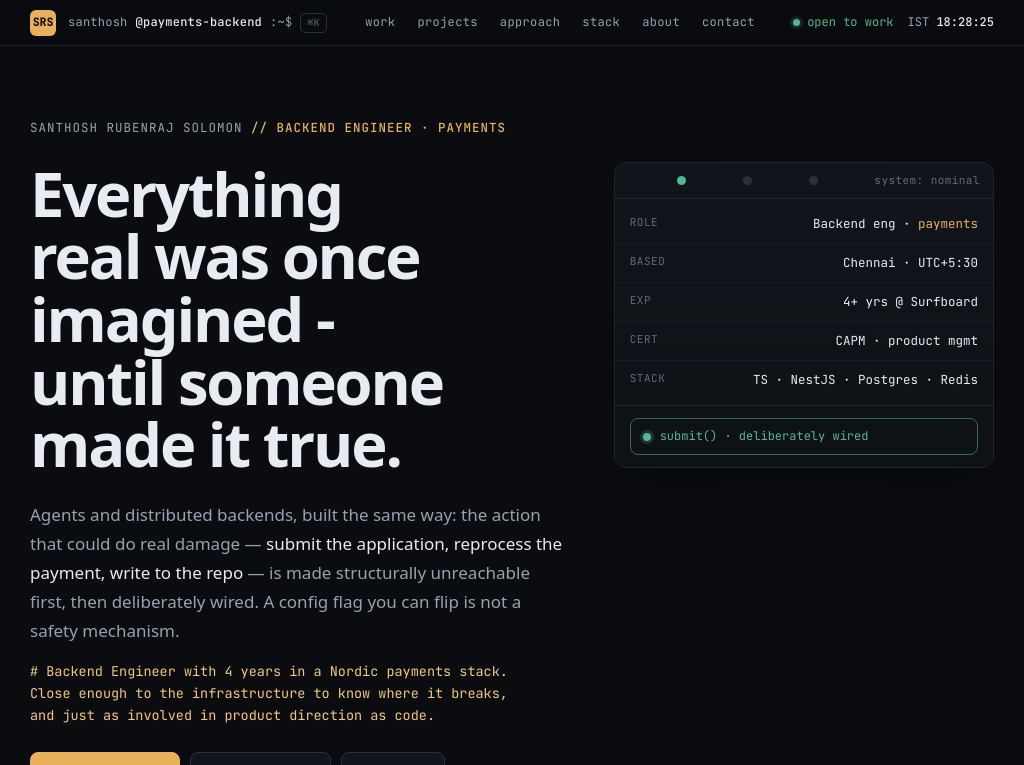
it: commands › Enter after ArrowDown runs the selected suggestion
Click the button titled "Command palette (⌘K)": (197, 22) 68,12 -> 327,32
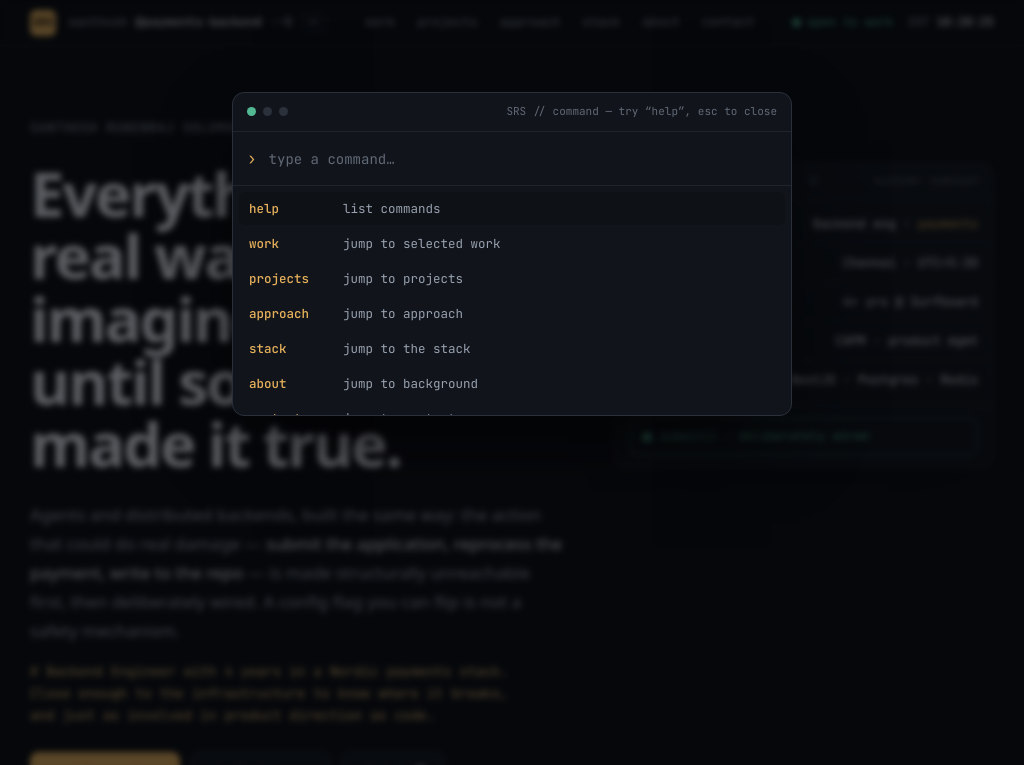
In the field labelled "command": (522, 158) 267,148 -> 777,168, type "w"
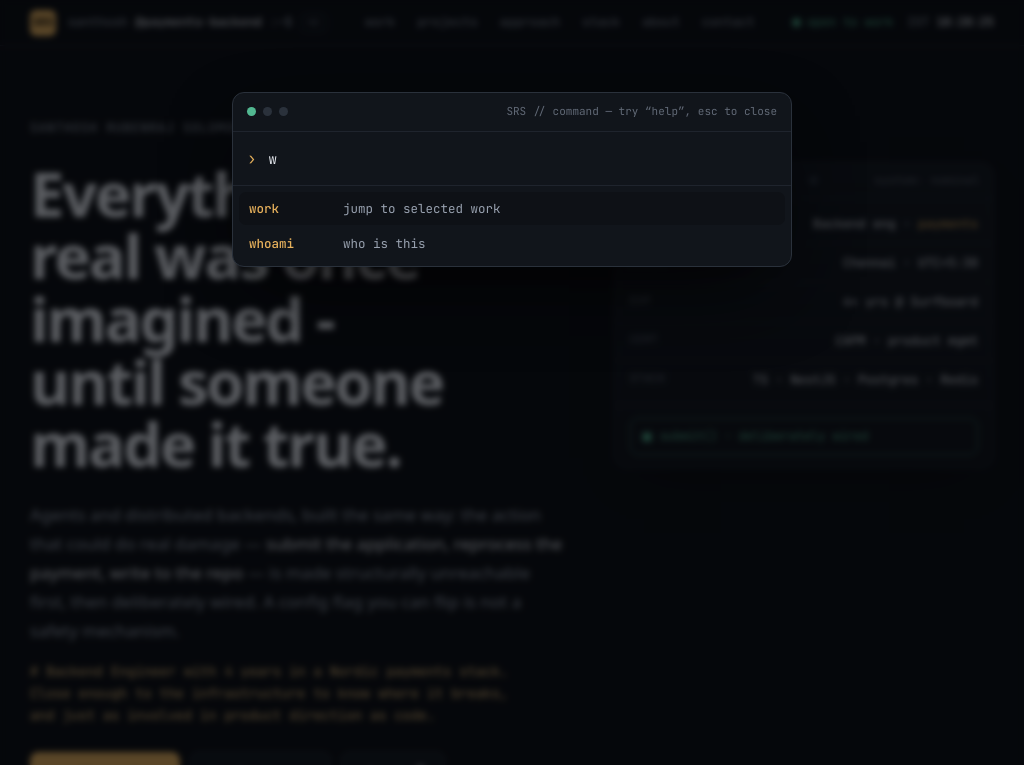
Press Arrowdown Enter
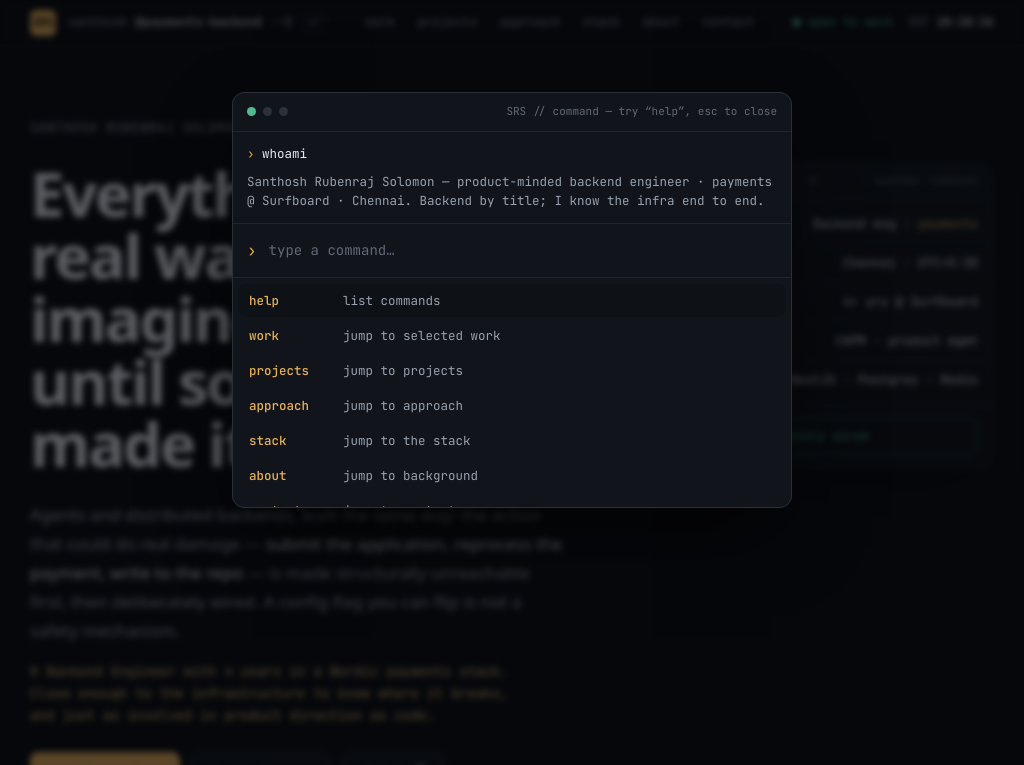
Expected: the dialog named "Command palette" is shown, 232,92 -> 792,508
Expected: the element that starts with "whoami" is shown, 262,145 -> 307,162
